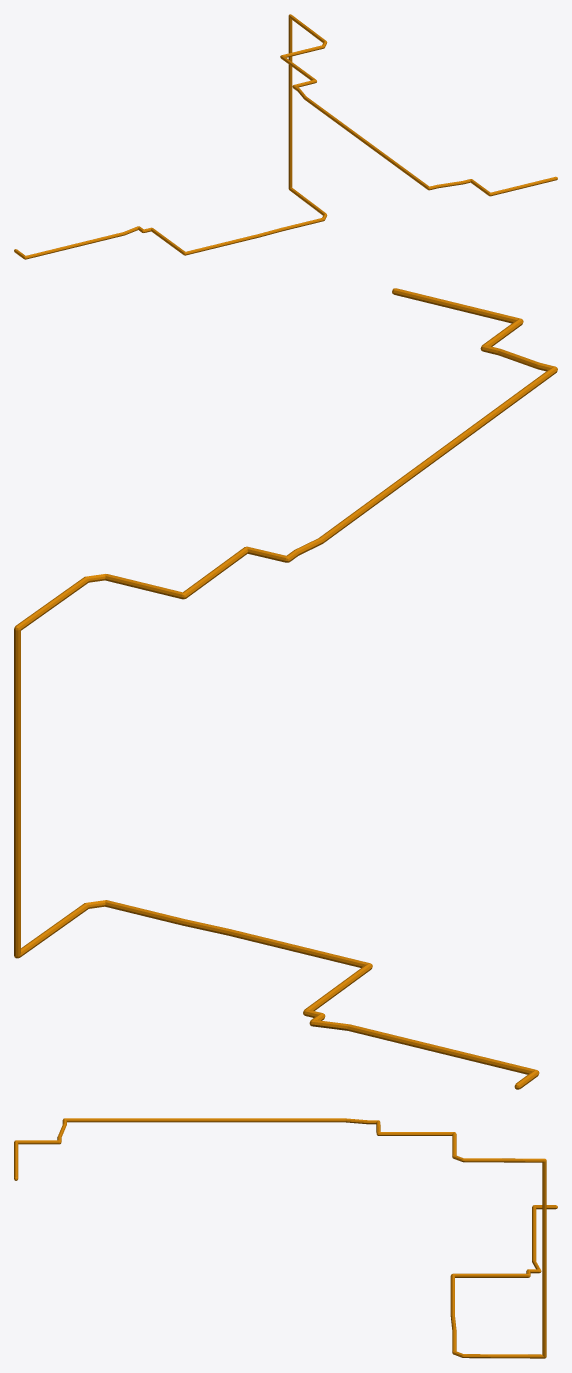
The picture shows the model from 3 angles, top to bottom: view 1: azimuth 30°, elevation 25°; view 2: azimuth 150°, elevation 25°; view 3: azimuth 270°, elevation 25°; orthographic projection. The views are drawn at different scales.
Bounding box in the file's own units: 1855 × 1020 × 2517.
